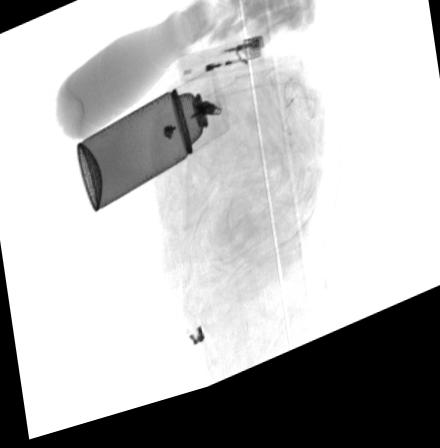Lighter: (176, 49, 266, 95)
Sprayer: (76, 79, 231, 216)
